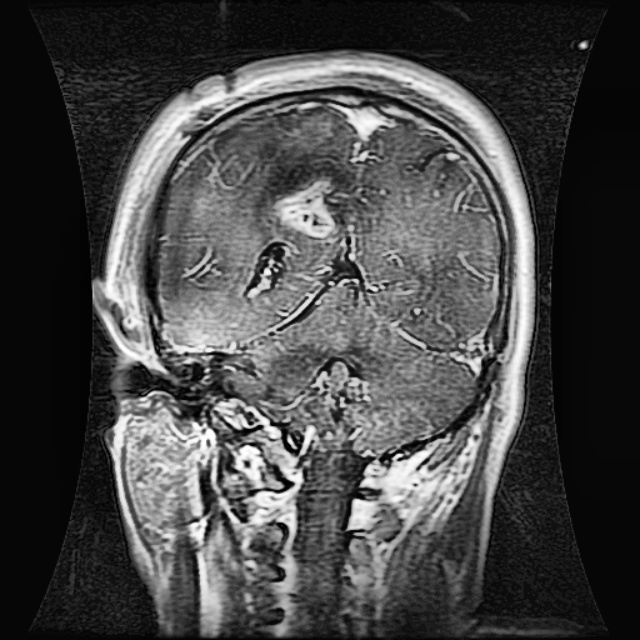Glioma: (274, 178, 333, 233)
